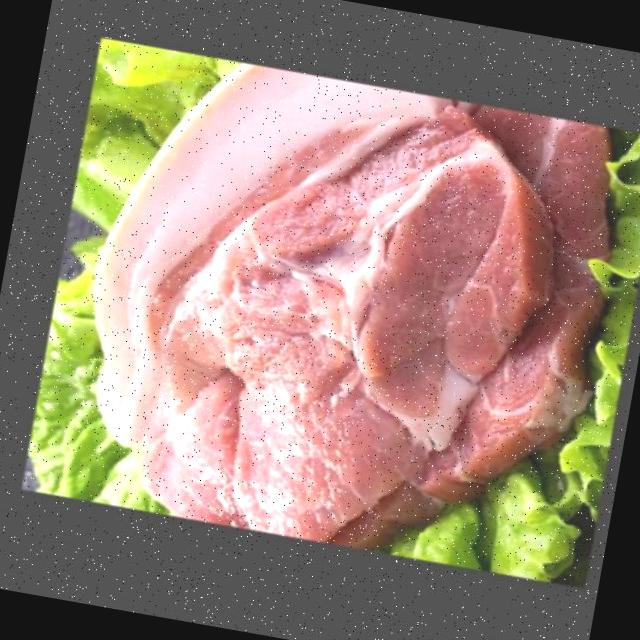potato: (63, 48, 618, 576)
